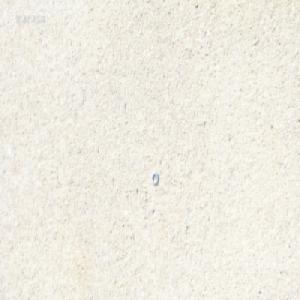Washer: (151, 171, 159, 186)
